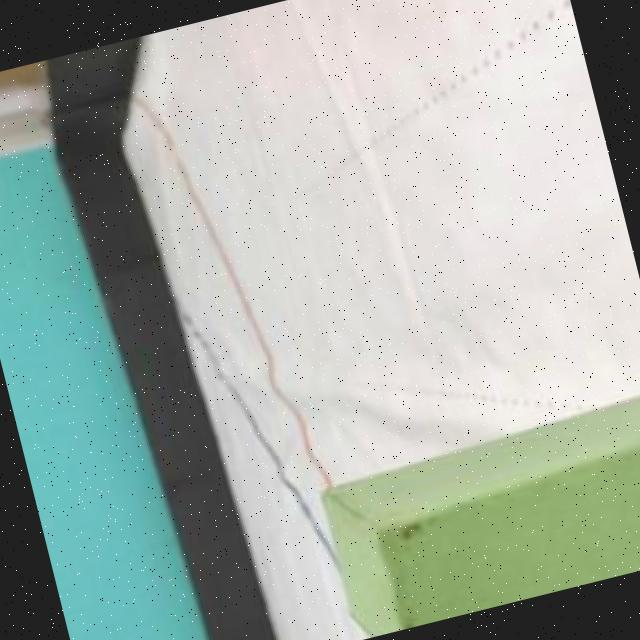greenbox: (309, 386, 640, 640)
